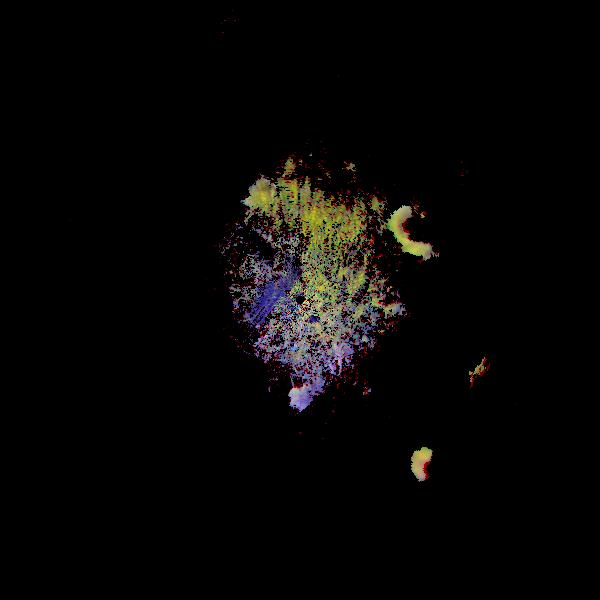roost: (382, 178, 475, 271), (264, 340, 339, 415), (361, 252, 436, 327), (404, 438, 464, 498), (248, 173, 290, 215)
